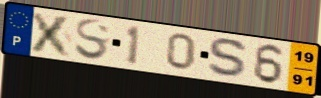0: (164, 33, 200, 72)
1: (124, 25, 142, 66)
6: (253, 43, 286, 86)
S: (205, 37, 251, 80), (73, 18, 112, 63)
X: (28, 10, 75, 59)
